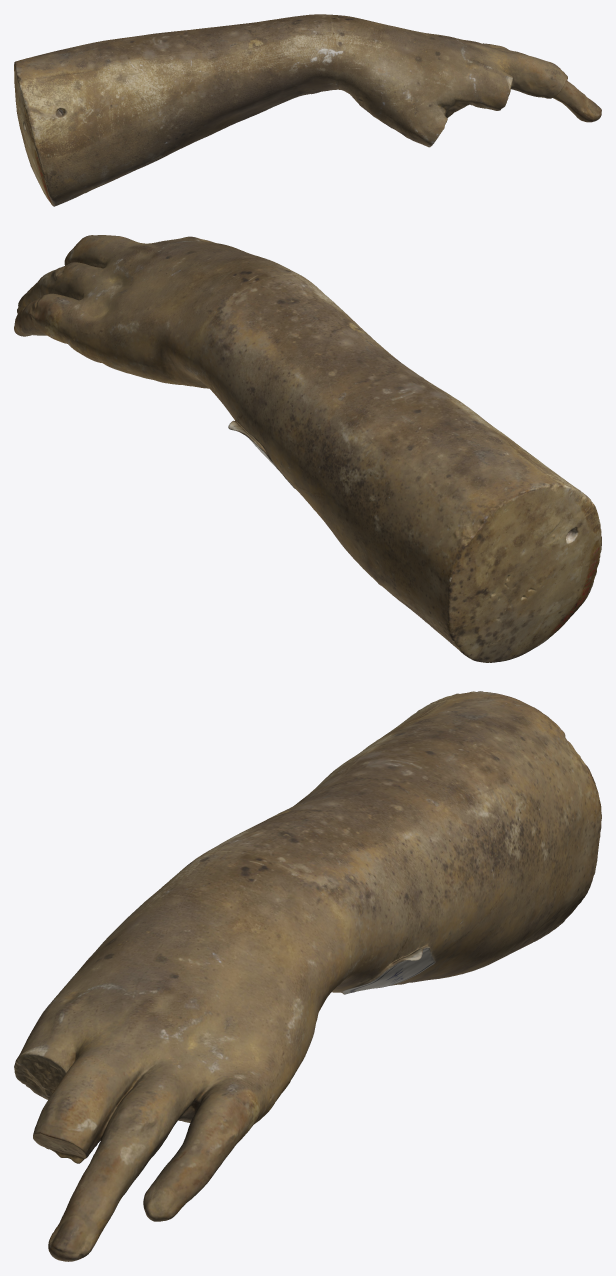
Rendered from life-cast-of-left-forearm-and-hand-150k-4096-high.glb.
3 views of the same model, one above another, from view 1: azimuth 30°, elevation 25°; view 2: azimuth 150°, elevation 25°; view 3: azimuth 270°, elevation 25° (orthographic). The views are drawn at different scales.
Bounding box in the file's own units: 11.97 × 3.89 × 6.77.
1 material, 1 textured.
